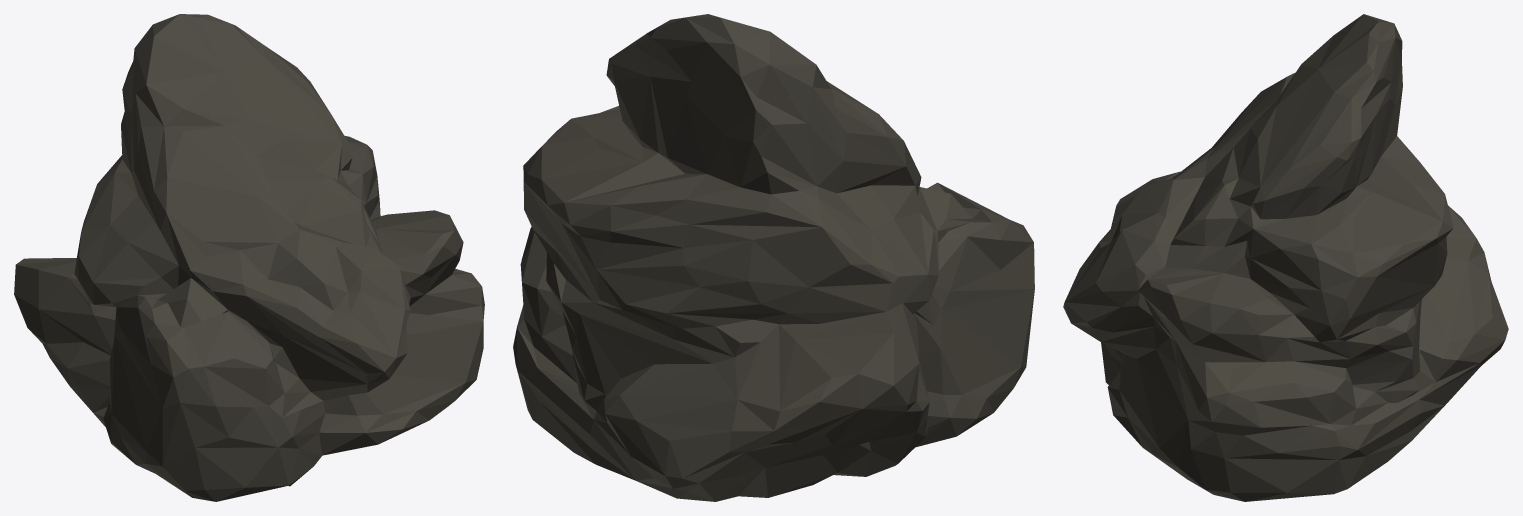
The model's file is synty-rock-cluster-large-01.gltf.
The picture shows the model from 3 angles, left to right: view 1: azimuth 30°, elevation 25°; view 2: azimuth 150°, elevation 25°; view 3: azimuth 270°, elevation 25°; orthographic projection. The views are drawn at different scales.
Parts seen in each view (by area): view 1: SM_Rock_Cluster_Large_01; view 2: SM_Rock_Cluster_Large_01; view 3: SM_Rock_Cluster_Large_01.
Boxes of the visible parts, left/top/right/bottom form: SM_Rock_Cluster_Large_01: left=14, top=14, right=484, bottom=501; SM_Rock_Cluster_Large_01: left=513, top=14, right=1034, bottom=501; SM_Rock_Cluster_Large_01: left=1063, top=14, right=1508, bottom=501.
Bounding box in the file's own units: 13.51 × 13.11 × 13.64.
Materials: 1 (1 with a texture image).
